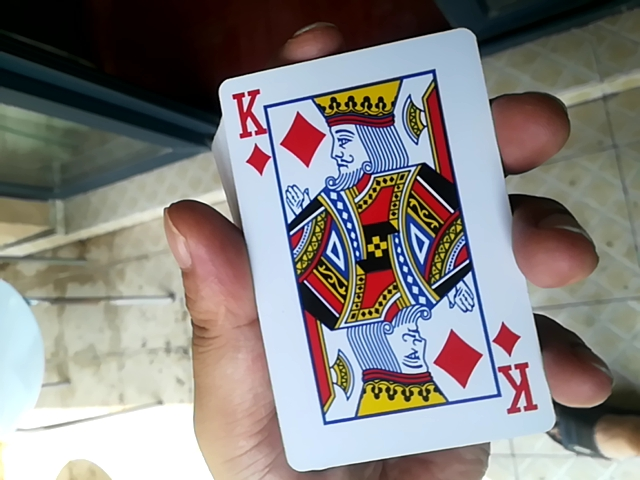fk k: (224, 38, 540, 469)
